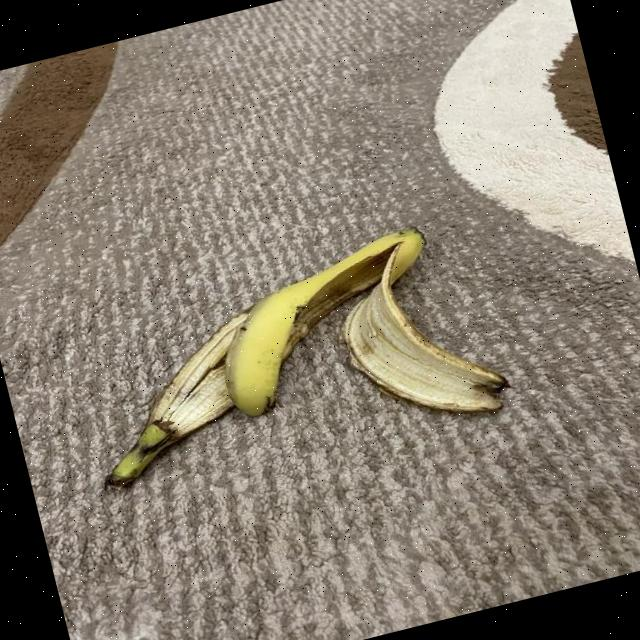banana-peel: (59, 208, 514, 506), (197, 221, 456, 422), (322, 225, 514, 442), (70, 308, 282, 492)
